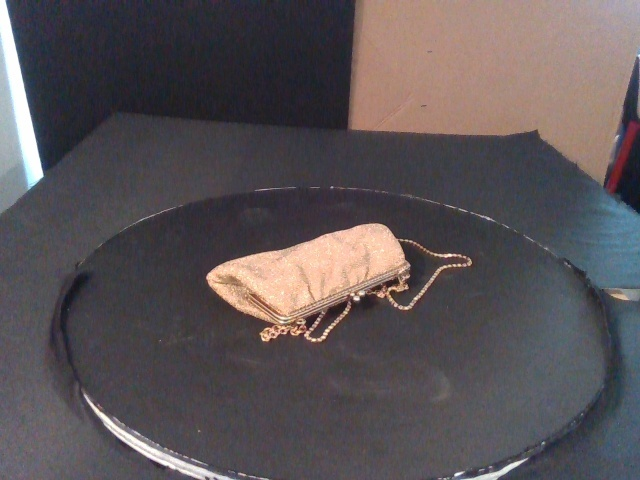bag: (205, 222, 411, 326)
